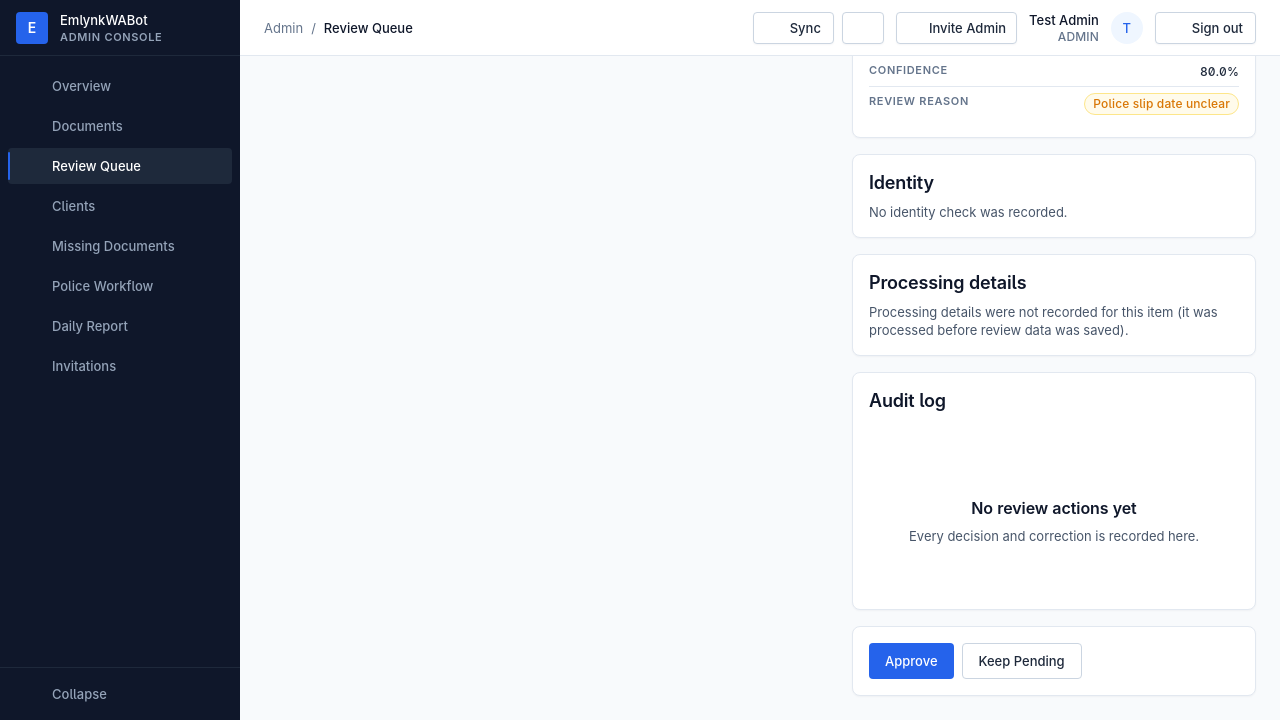
Test: approving a police slip › a date read by OCR is shown for confirmation, without an input; nothing extra is sent
The width and height of the screenshot is (1280, 720).
(page scrolled)
Click the button "Approve".
click(911, 661)  # box [869, 643, 954, 679]
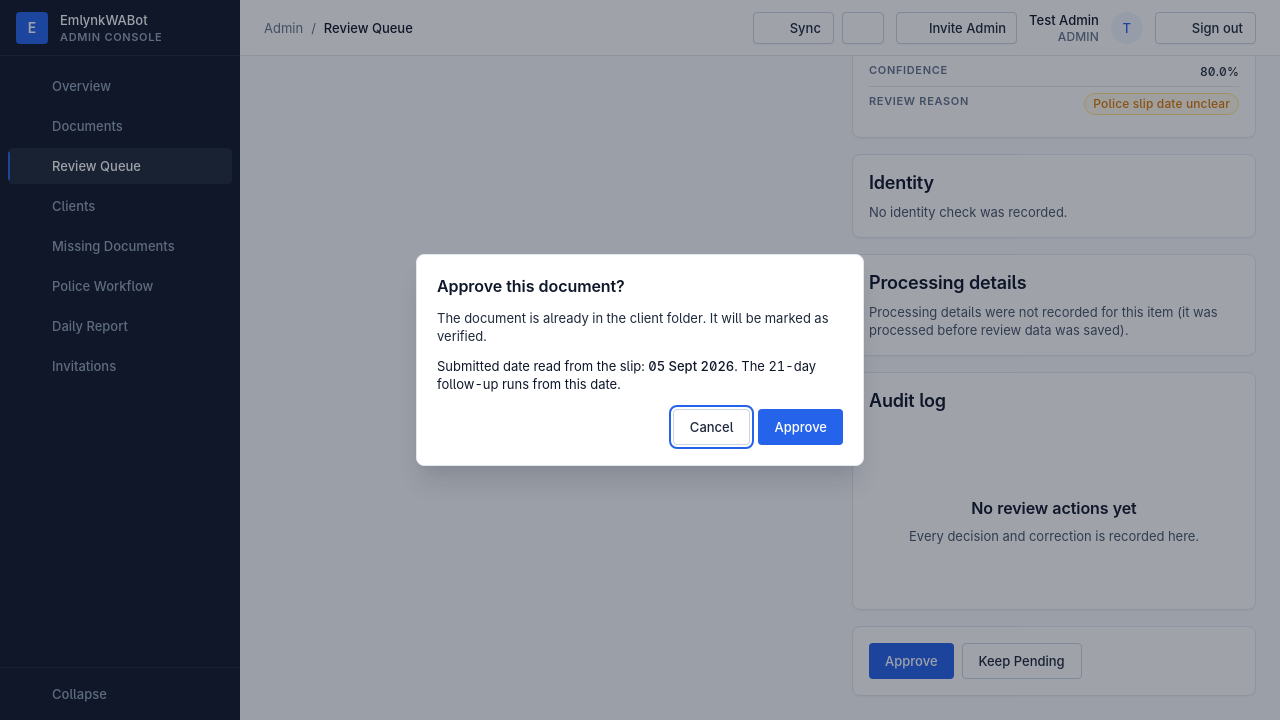
Check: the field labelled "Submitted date on the police slip" is not shown
Check: the dialog "Approve this document?" shows "Submitted date read from the slip: 05 Sept 2026", box [416, 254, 864, 466]
Click the button "Approve".
click(801, 427)  # box [758, 409, 843, 445]
(page scrolled)
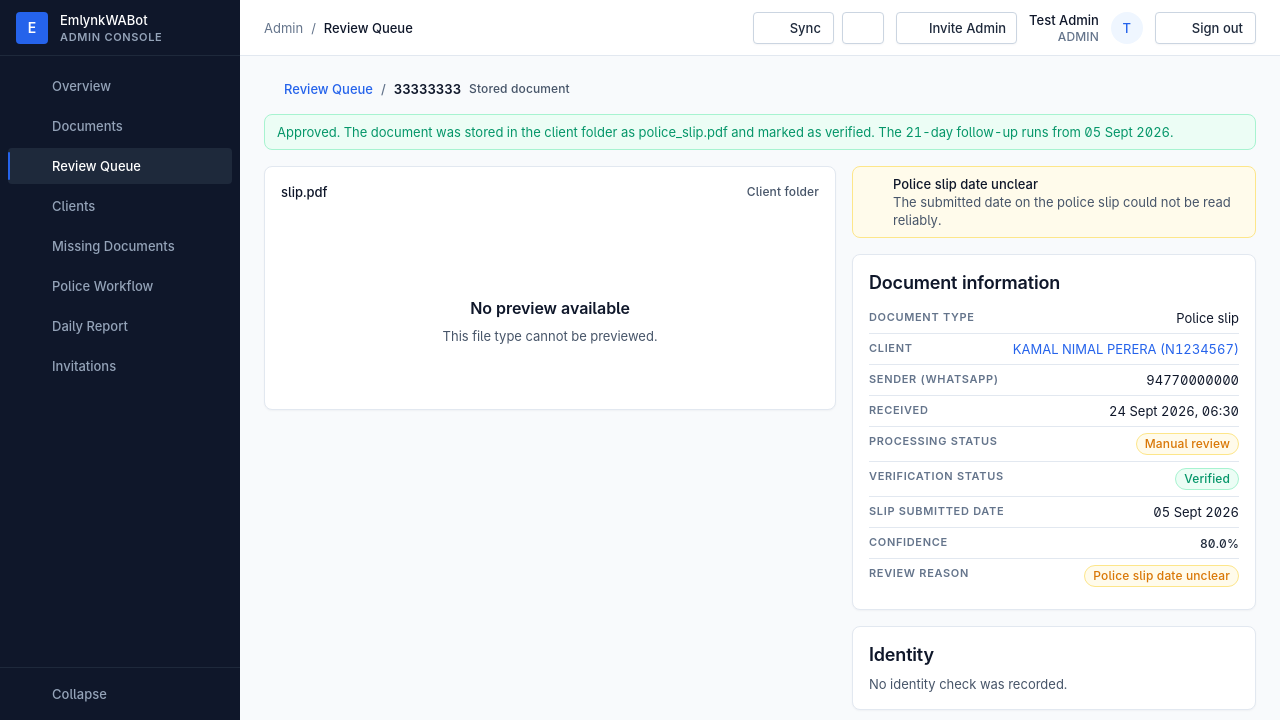
Check: the message is shown, box [264, 114, 1256, 150]
